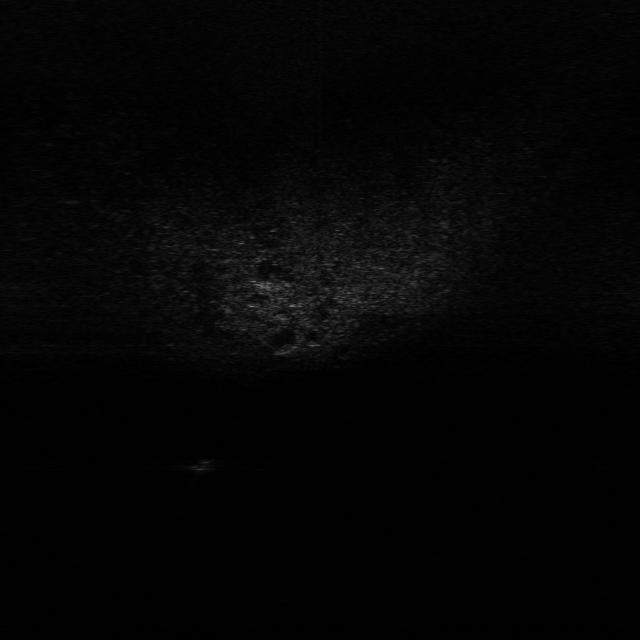cylinder: (183, 455, 221, 475)
